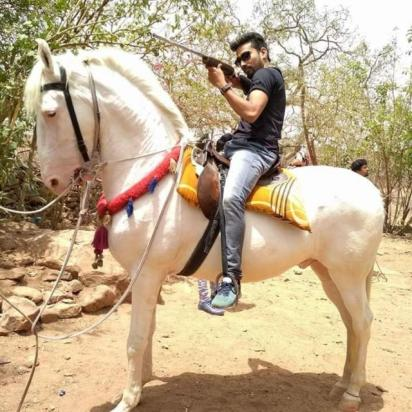Gun: (147, 30, 254, 97)
